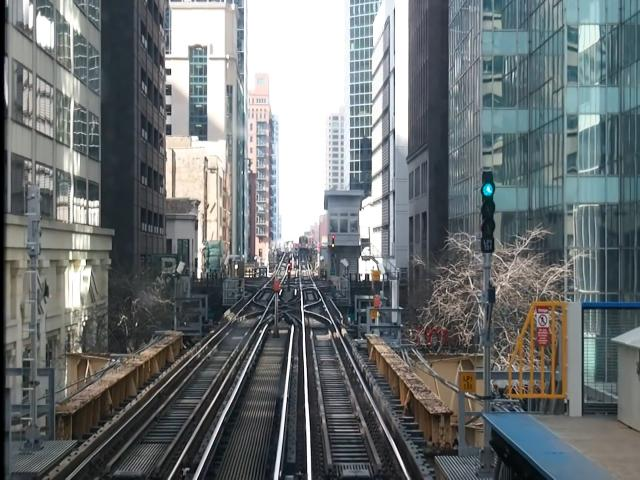signal light: (479, 170, 499, 256)
